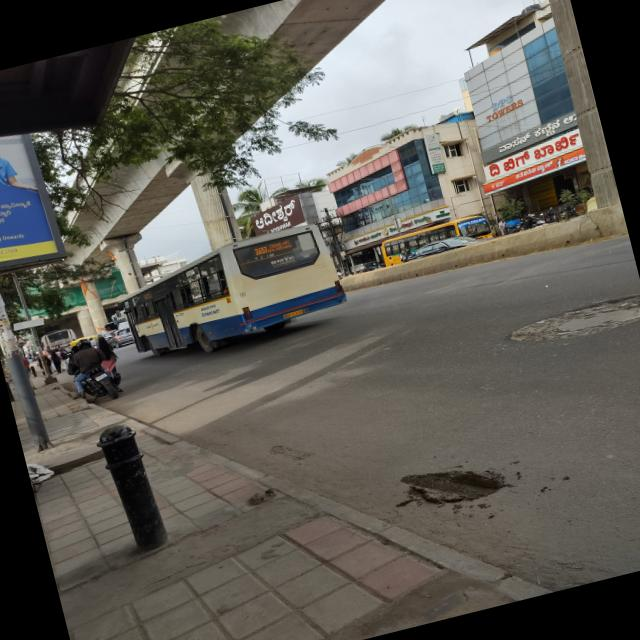bus: (110, 212, 363, 375)
display: (253, 236, 294, 256)
dnumber: (254, 244, 268, 254)
